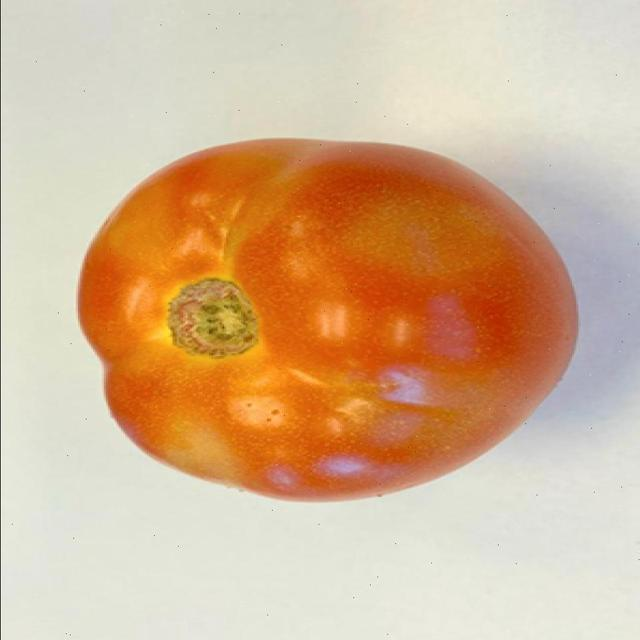Spotted wilt Virus Fruit: (34, 108, 104, 376)
